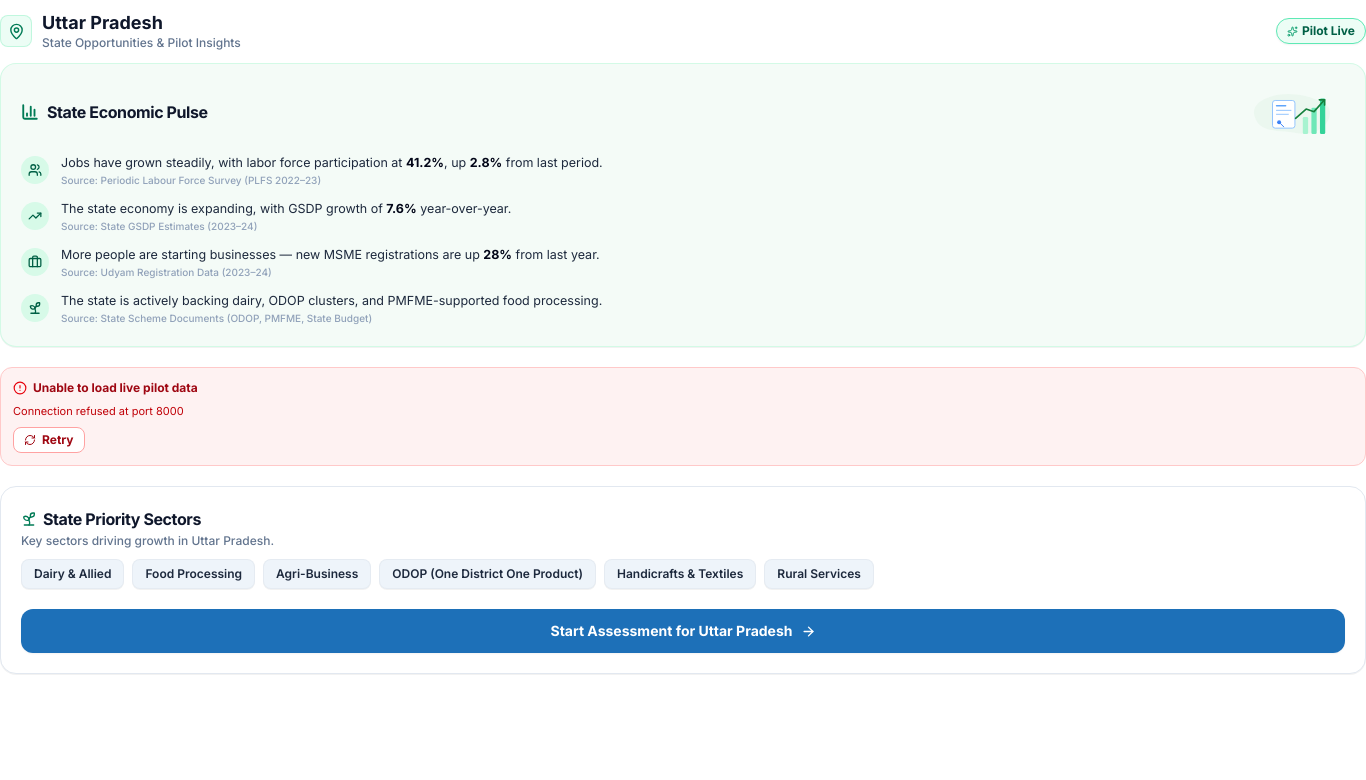
Test: Discover Live Backend Integration (Task 7) › StateInsightsBar Live Backend Integration › handles backend error with explicit error message and retry button without silent mock fallback
The image size is (1366, 780).
Expected: the message "Unable to load live pilot data Connection refused at port 8000 Retry" is shown, left=0, top=367, right=1365, bottom=466
Expected: the text "Unable to load live pilot data" is shown, left=33, top=380, right=198, bottom=396
Click the button "Retry" at (49, 440), box left=13, top=427, right=85, bottom=453
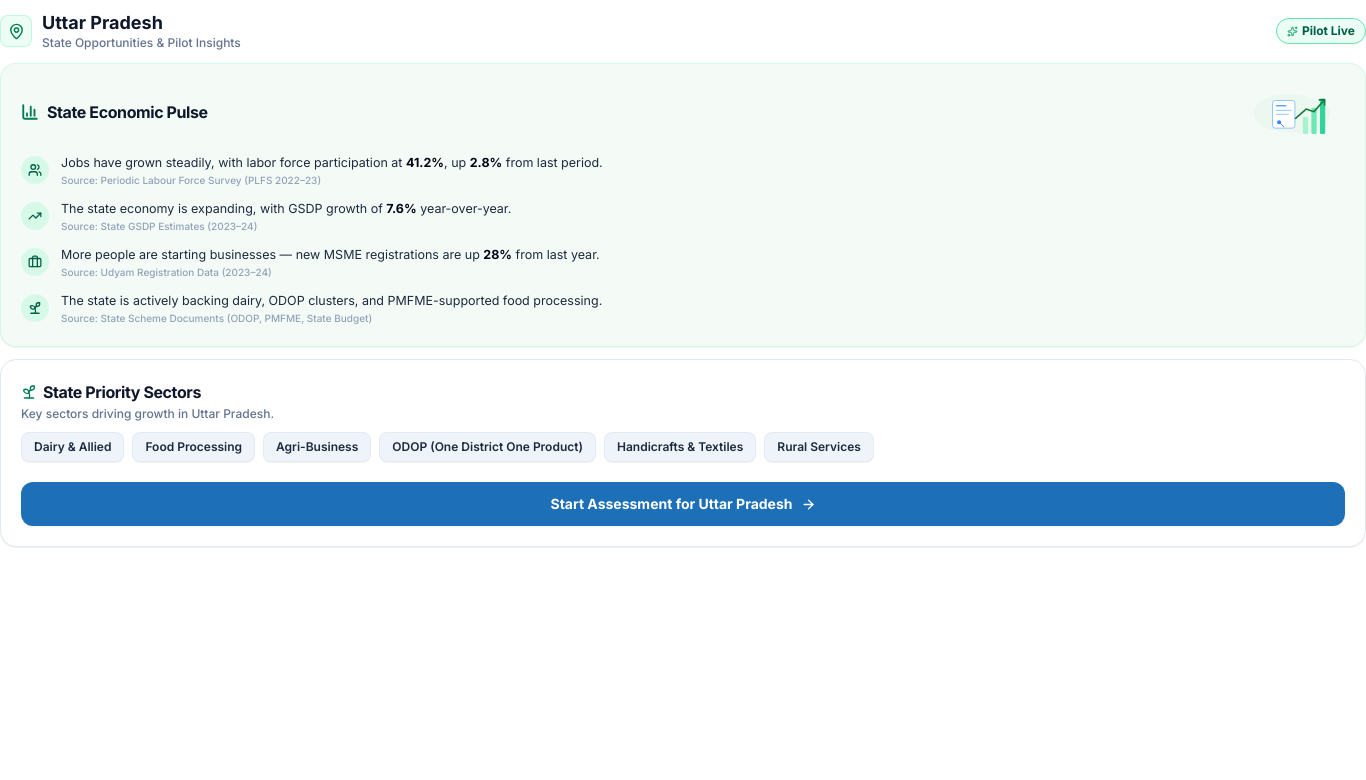
Expected: the heading "State Priority Sectors" is shown, left=43, top=380, right=201, bottom=404
Expected: the message "Unable to load live pilot data Connection refused at port 8000 Retry" is gone
